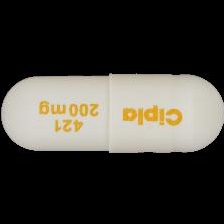61786-727: (0, 0, 224, 224)
